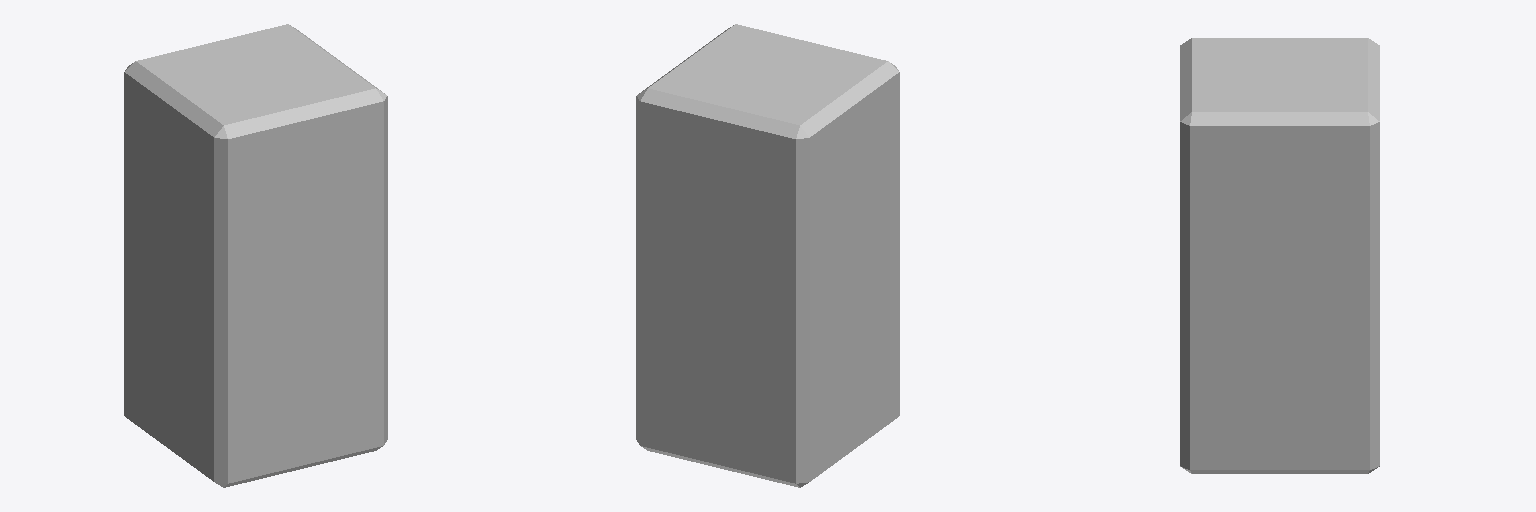
File: LeftArm.obj
3 renders of one model, left to right at view 1: azimuth 30°, elevation 25°; view 2: azimuth 150°, elevation 25°; view 3: azimuth 270°, elevation 25°, orthographic.
Visible parts, largest first — view 1: Left_Arm; view 2: Left_Arm; view 3: Left_Arm.
Part boxes in pixels (bbox=[...]): Left_Arm: bbox=[124, 24, 387, 487]; Left_Arm: bbox=[636, 24, 899, 487]; Left_Arm: bbox=[1180, 38, 1379, 473].
Size of the model in its own units: 0.4972 by 0.9943 by 0.4972.